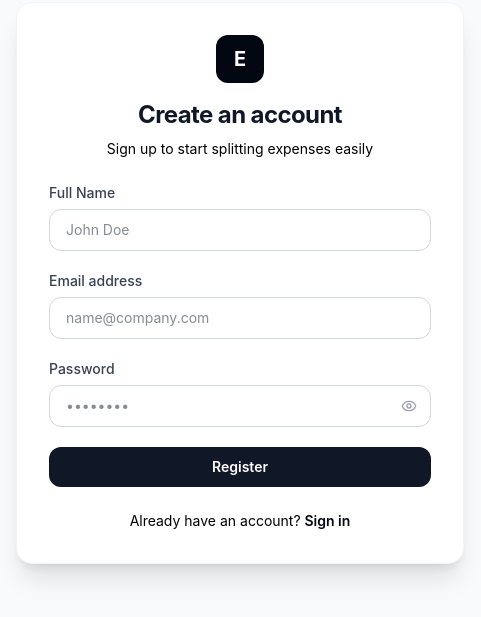
Test case: Register Component › checks password strength indicator changes
The width and height of the screenshot is (481, 617).
Weak password
Type "123" into the password field labelled "Password" at (240, 406), box [49,385,431,427]
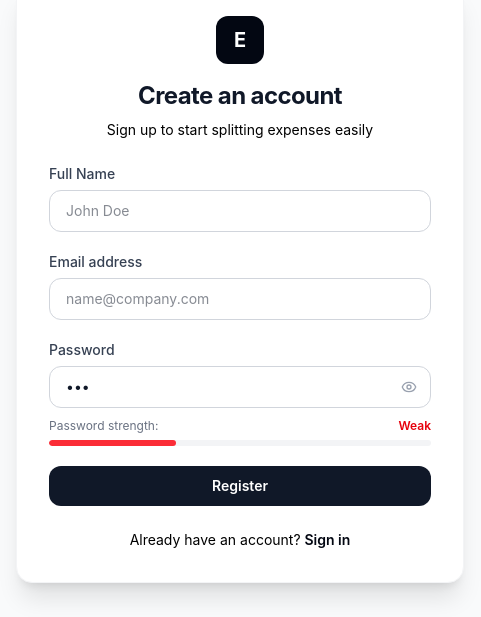
Expected: the text "Weak" is shown, [398,418,431,434]
Medium password
Type "password123" into the password field labelled "Password" at (240, 387), box [49,366,431,408]
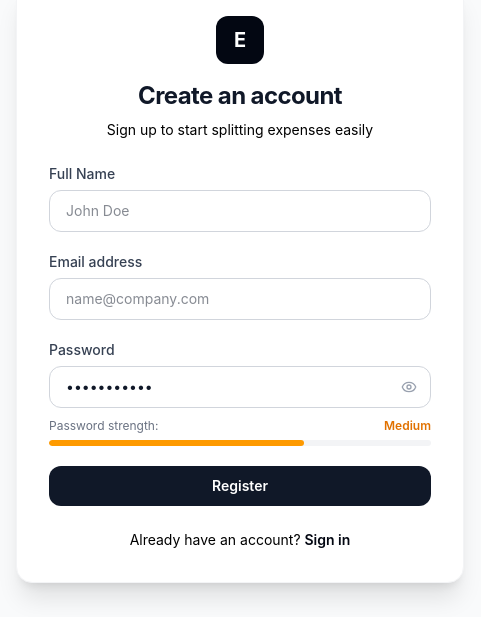
Expected: the text "Medium" is shown, [384,418,431,434]
Strong password
Type "Password123!" into the password field labelled "Password" at (240, 387), box [49,366,431,408]
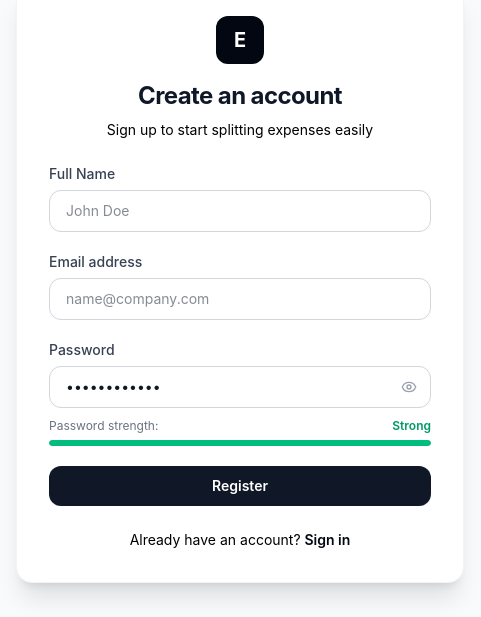
Expected: the text "Strong" is shown, [392,418,431,434]
